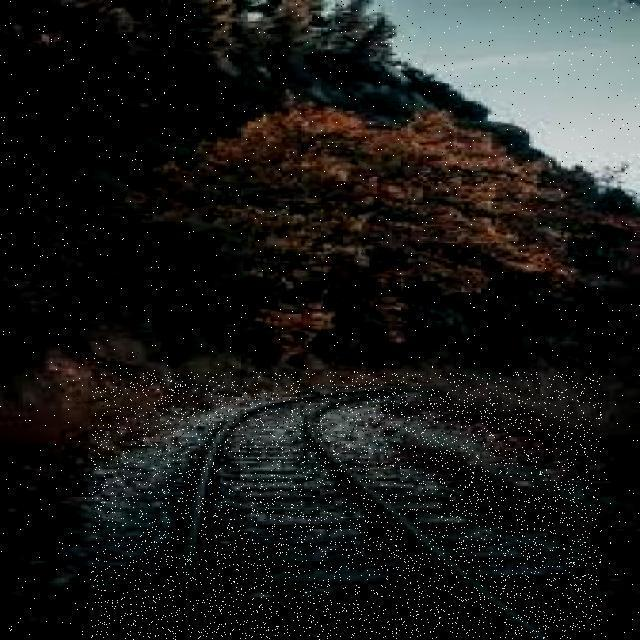rail: (92, 372, 602, 639)
